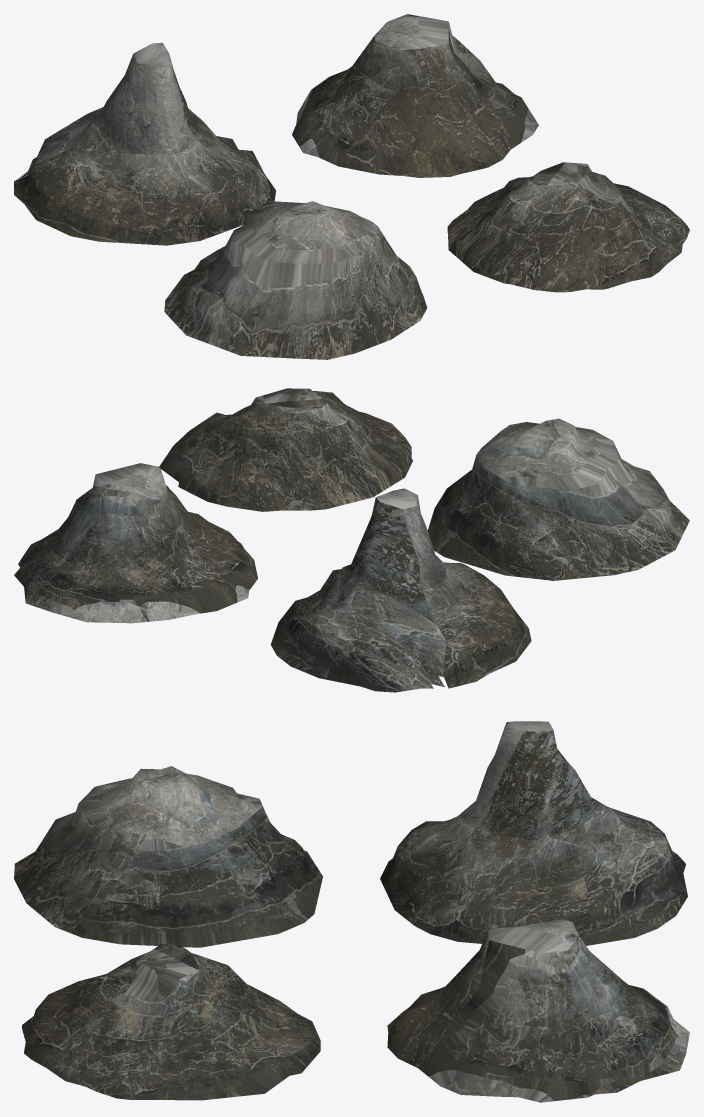
File: mountains.fbx
3 views of the same model, one above another, from view 1: azimuth 30°, elevation 25°; view 2: azimuth 150°, elevation 25°; view 3: azimuth 270°, elevation 25° (orthographic). The views are drawn at different scales.
Parts seen in each view (by area): view 1: mountain2, mountain1, mountain3, mountain4; view 2: mountain2, mountain1, mountain3, mountain4; view 3: mountain2, mountain1, mountain3, mountain4.
Boxes of the visible parts, x1,y1,x2,y2 form: mountain2: (14, 42, 275, 245); mountain1: (164, 201, 427, 359); mountain3: (292, 14, 538, 177); mountain4: (447, 162, 689, 292); mountain2: (270, 488, 531, 692); mountain1: (427, 418, 689, 580); mountain3: (14, 463, 257, 623); mountain4: (159, 388, 412, 511); mountain2: (380, 721, 687, 945); mountain1: (14, 766, 322, 947); mountain3: (387, 919, 689, 1102); mountain4: (21, 944, 320, 1100).
Size of the model in its own units: 1895 by 510 by 1893.
